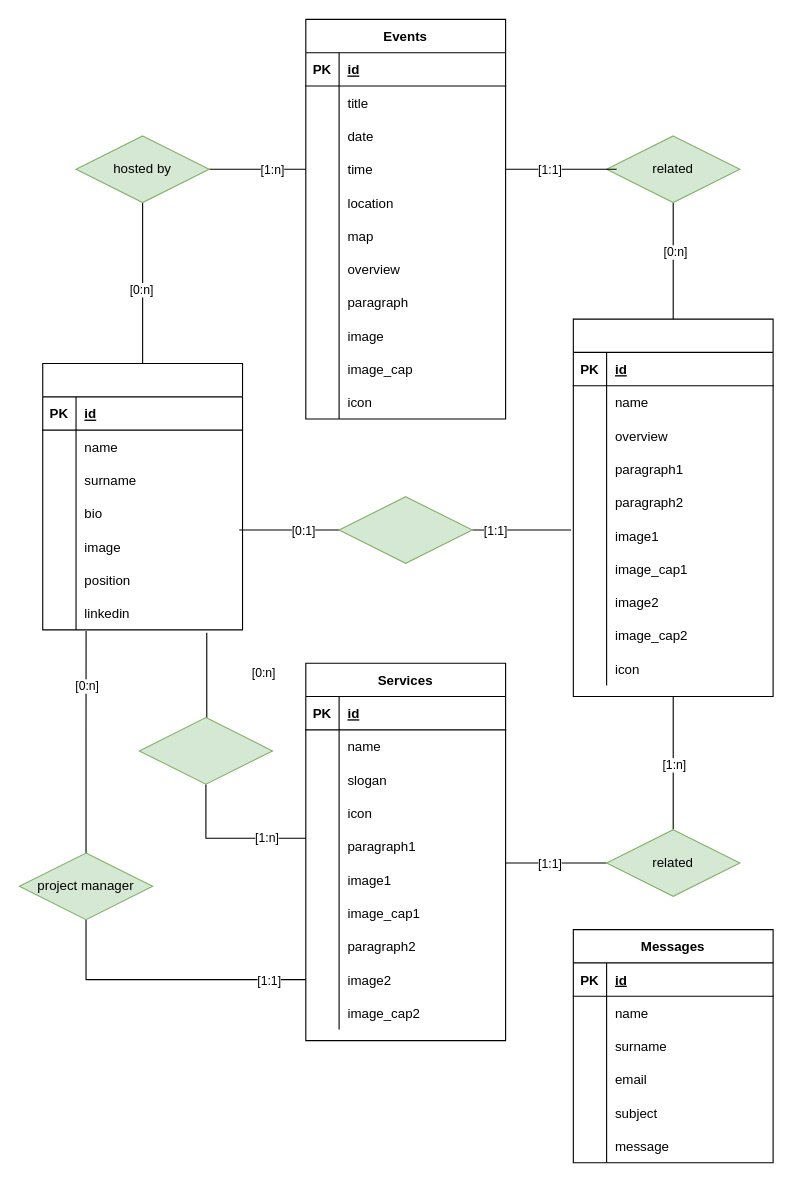
Image size: 793x1182. Some labels were removed from this diagram. Here are the shapes that lost their labels. From the top down, the box of each, then its label:
(42, 362, 243, 630): People
(572, 318, 773, 697): Areas
(338, 496, 472, 563): responsibility
(138, 717, 273, 784): assistance
